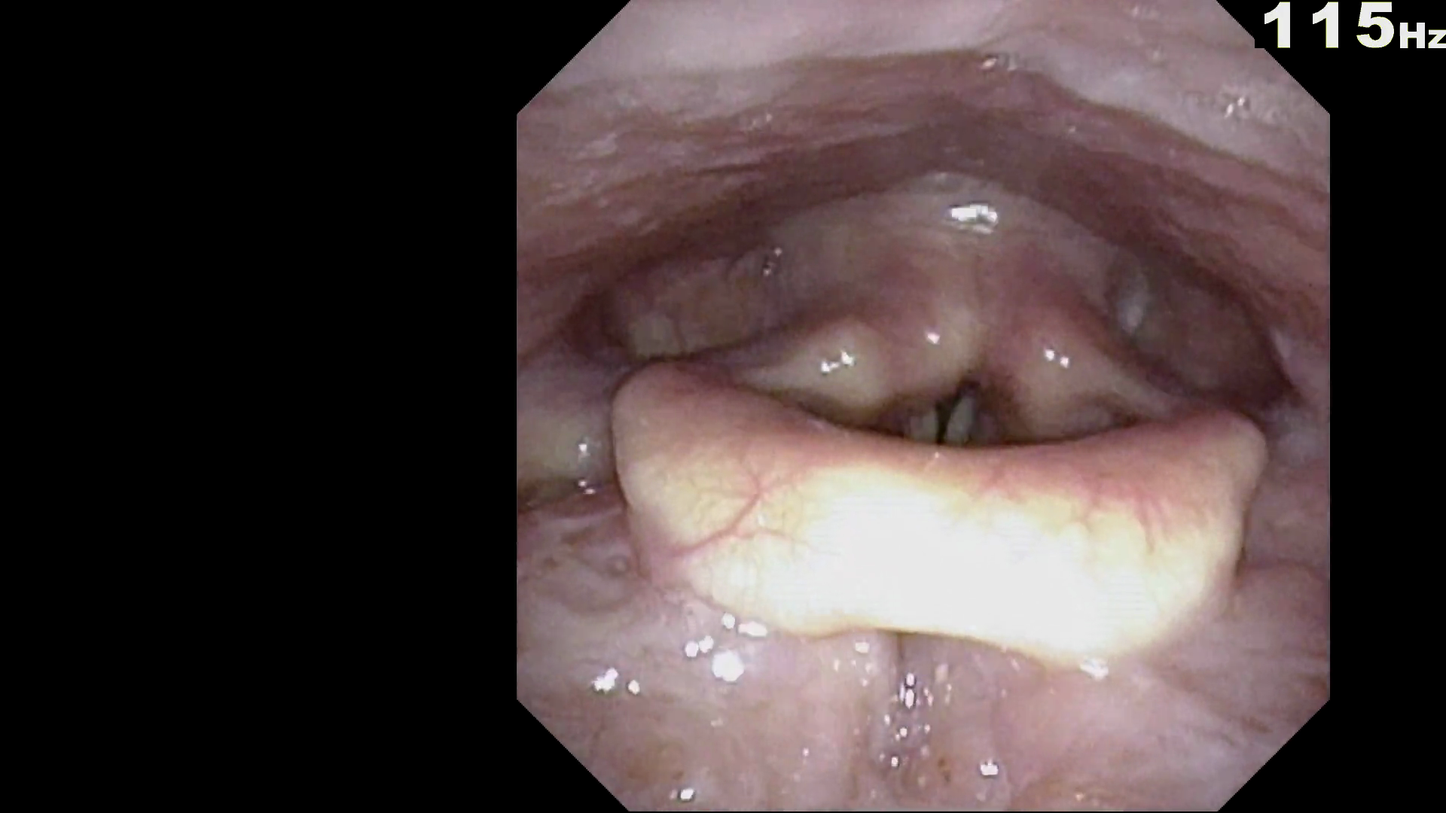epiglottis: (590, 349, 1279, 677)
trachea: (862, 305, 1041, 530)
